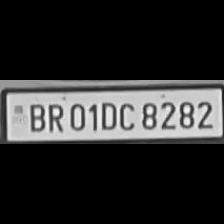0: (66, 100, 88, 132)
1: (86, 99, 100, 130)
2: (194, 99, 214, 129), (158, 99, 176, 130)
8: (138, 99, 158, 130), (176, 99, 194, 129)
B: (26, 102, 46, 132)
C: (117, 99, 135, 130)
D: (96, 99, 116, 130)
R: (46, 100, 64, 132)
